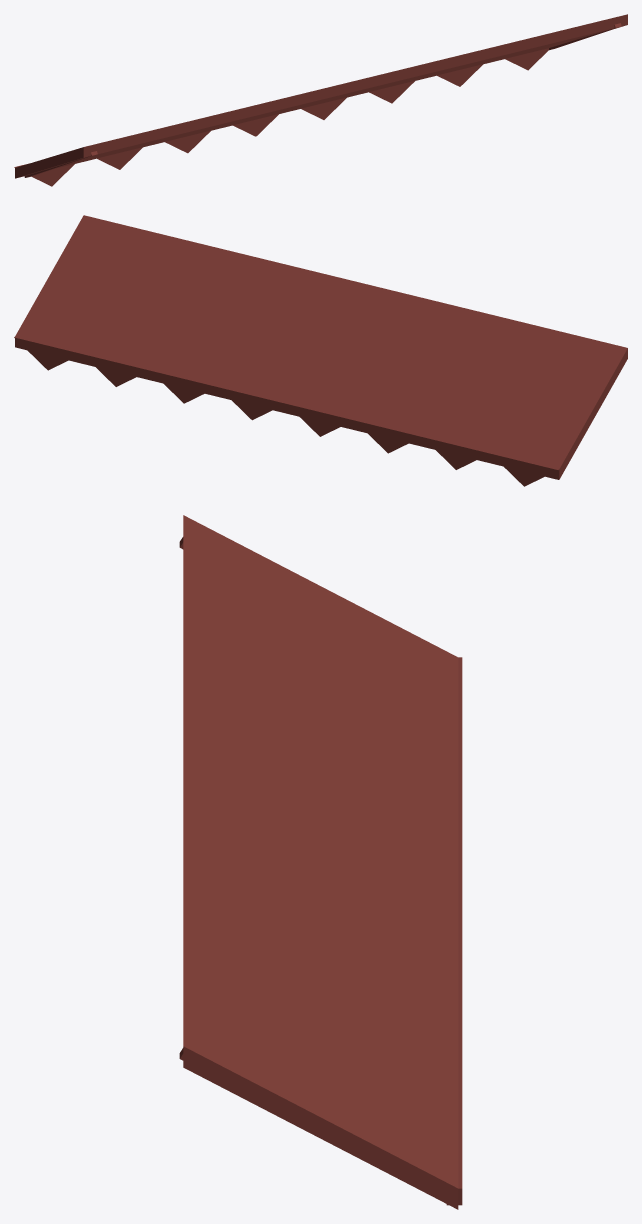
The model's file is awning_w16.fbx.
3 renders of one model, top to bottom at view 1: azimuth 30°, elevation 25°; view 2: azimuth 150°, elevation 25°; view 3: azimuth 270°, elevation 25°, orthographic. The views are drawn at different scales.
Visible parts, largest first — view 1: awning_w16; view 2: awning_w16; view 3: awning_w16.
Part boxes in pixels (x1,y1,x2,y2): awning_w16: [14, 14, 627, 186]; awning_w16: [14, 215, 627, 486]; awning_w16: [179, 515, 462, 1209].
Bounding box in the file's own units: 1600 × 270 × 360.
